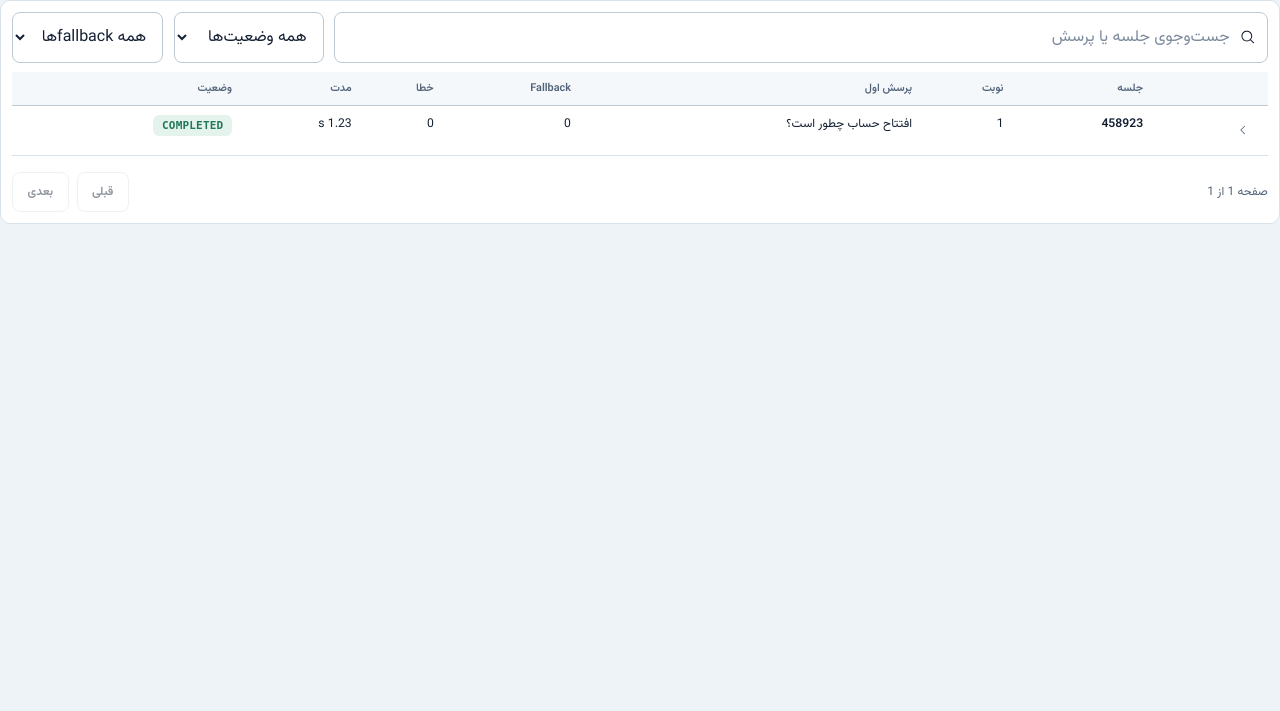
Test: expands a session, turn, and shared trace inspector
This screenshot has width=1280, height=711.
Click the button named "باز کردن جلسه".
click(1244, 130)  # box [1228,114,1260,146]
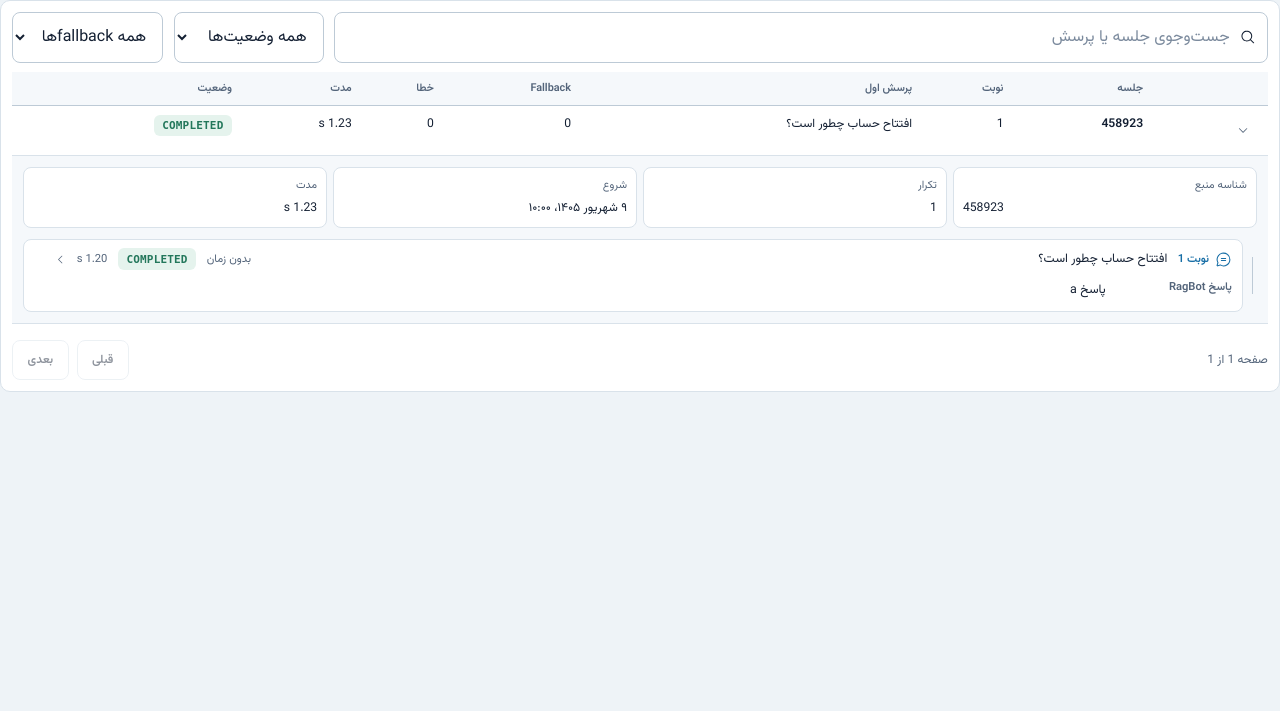
Now the text "پاسخ a" is shown, box [1070,280,1106,300]
Click the button "نوبت 1 افتتاح حساب چطور است؟ بدون زمان COMPLETED 1.20 s".
click(1103, 259)  # box [24,240,1242,279]
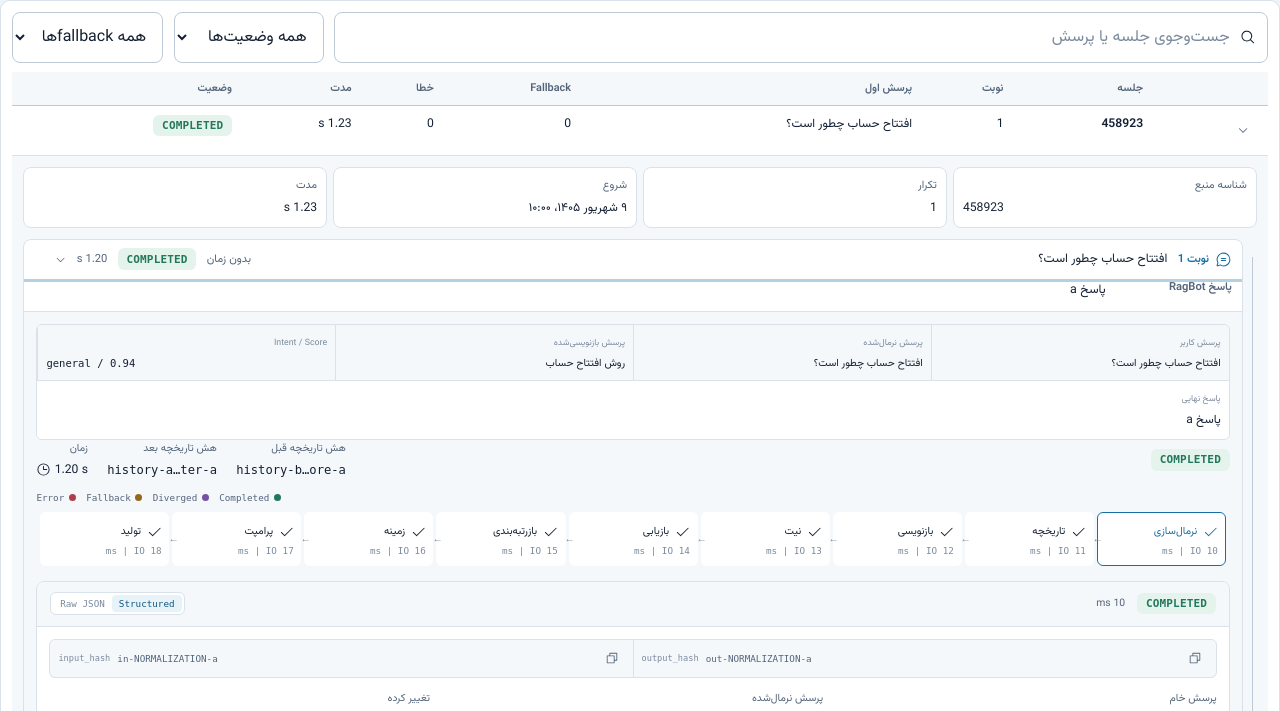
Expected: the 1st text "افتتاح حساب چطور است؟" is shown, [786,114,912,134]
Now the text "نرمال‌سازی" is shown, box [1154,523,1197,540]
